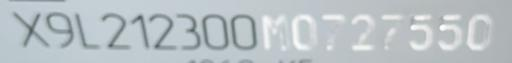letter: (8, 8, 52, 47), (258, 12, 290, 55), (98, 12, 132, 51), (146, 12, 180, 51), (228, 10, 258, 53), (348, 10, 376, 55), (44, 10, 74, 51), (289, 12, 319, 53), (318, 12, 348, 53), (200, 12, 230, 53), (72, 10, 102, 49), (436, 11, 466, 50), (377, 11, 405, 52), (406, 11, 434, 50), (174, 13, 202, 52), (466, 14, 494, 53), (129, 12, 151, 49)
